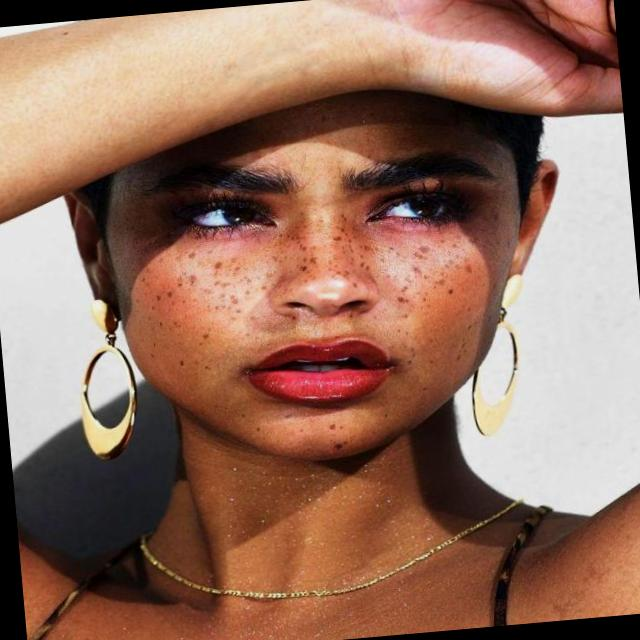freckle: (130, 203, 510, 349)
